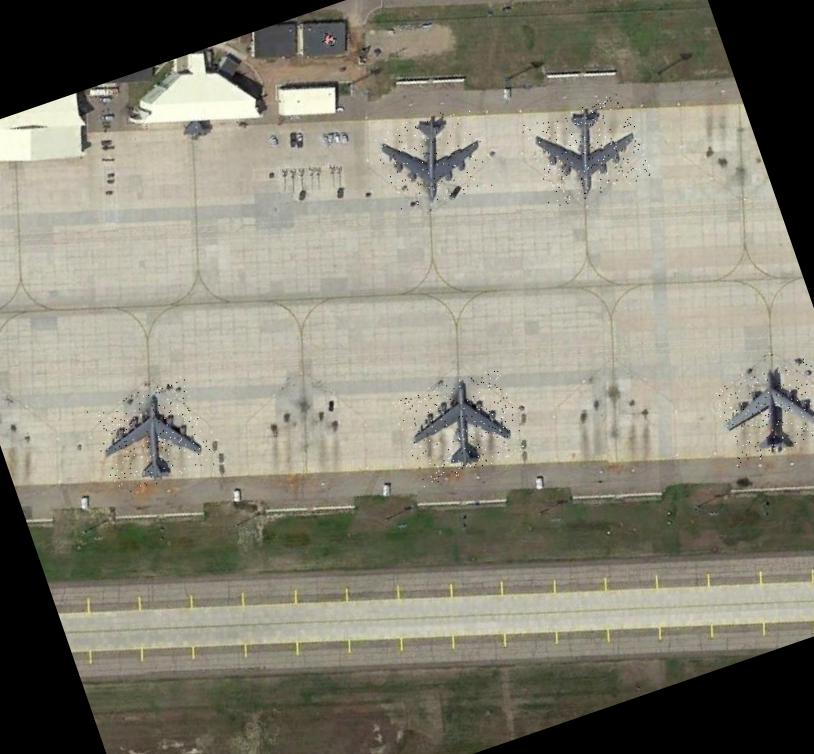A8: (392, 366, 528, 488), (520, 90, 653, 212), (86, 374, 214, 498), (371, 100, 495, 218), (710, 355, 814, 467)
